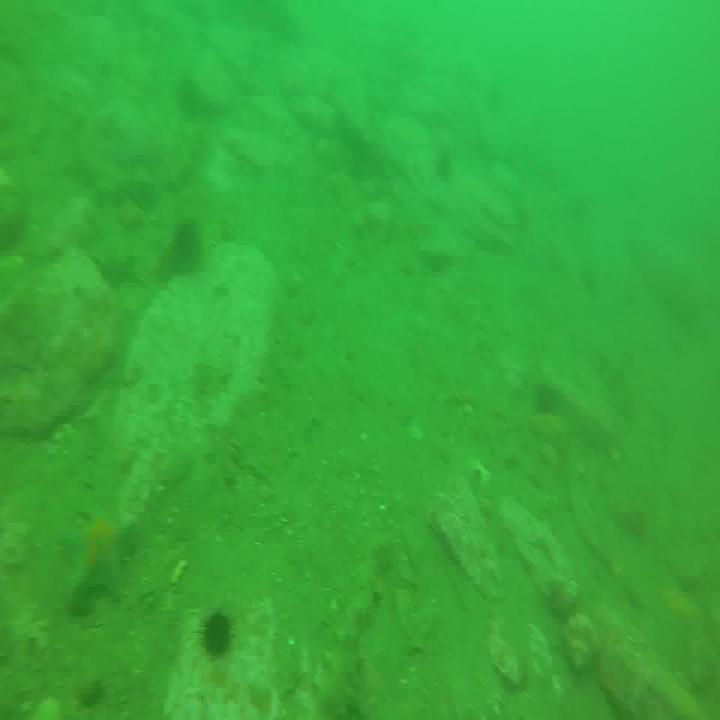echinus: (169, 220, 203, 271), (202, 610, 232, 651), (174, 74, 201, 114), (432, 146, 455, 188), (536, 380, 554, 422)
holothurian: (313, 616, 364, 720)
starfish: (60, 509, 137, 602), (91, 239, 144, 290)
